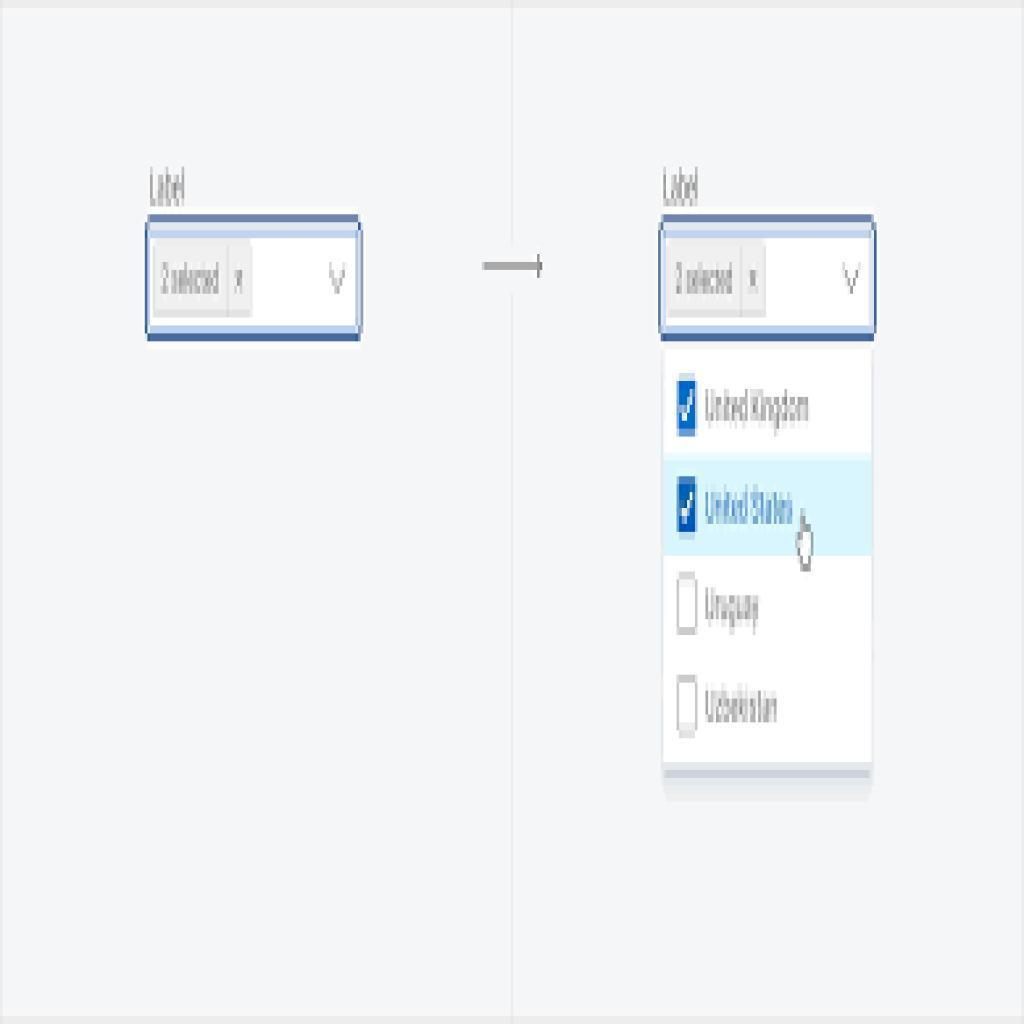checkbox: (676, 577, 699, 632), (677, 378, 698, 435), (676, 676, 695, 735), (679, 474, 696, 533)
dropdown: (662, 229, 878, 328), (148, 234, 352, 322)
